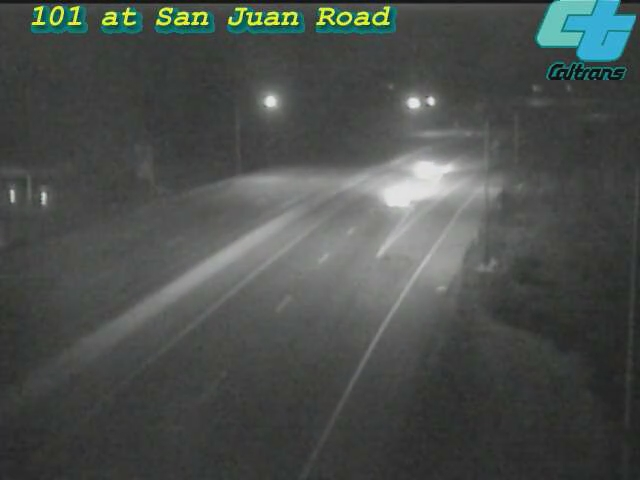vehicle: (388, 130, 468, 210), (357, 159, 437, 239)
